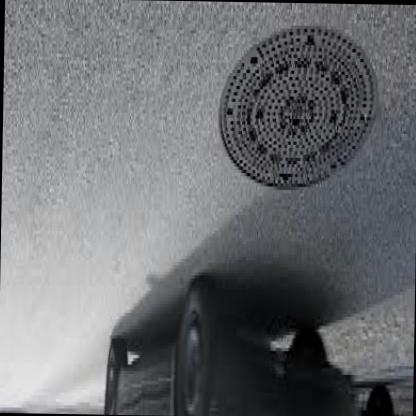manholes: (204, 0, 409, 235)
